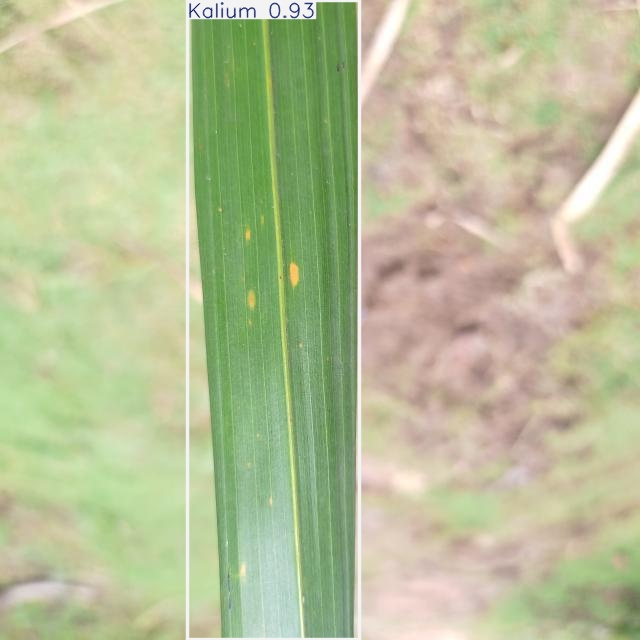Kalium: (188, 0, 360, 639)
